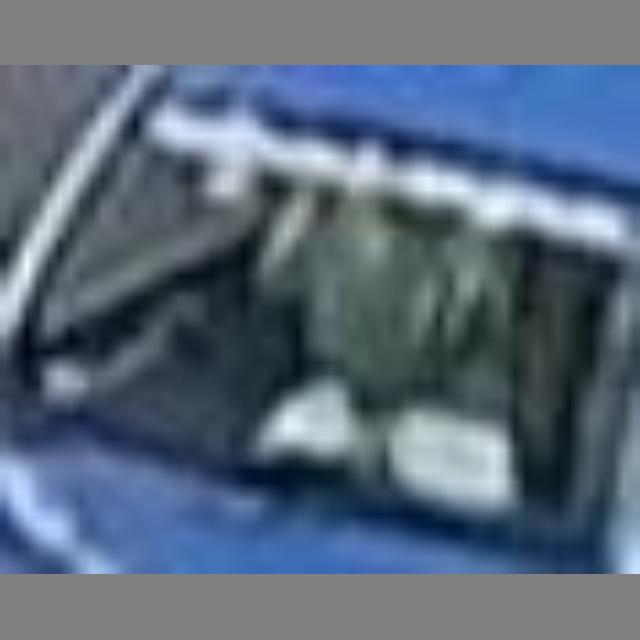tidak-pakai: (260, 163, 488, 445)
